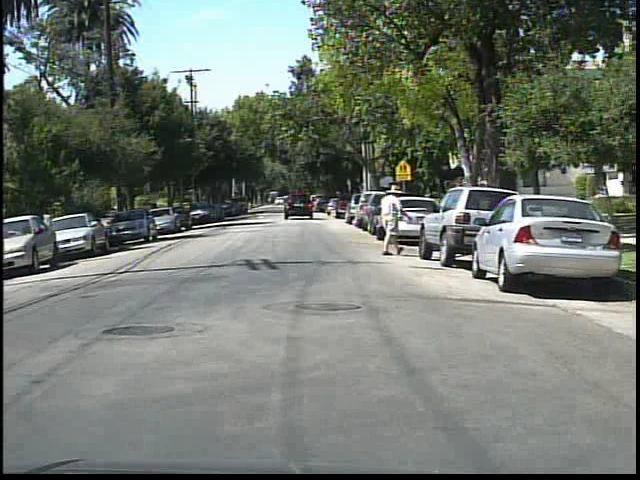person: (367, 184, 412, 260)
